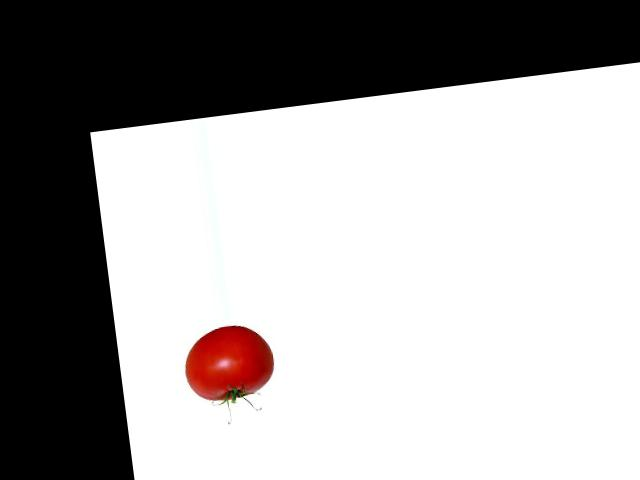tomato: (179, 320, 277, 404)
